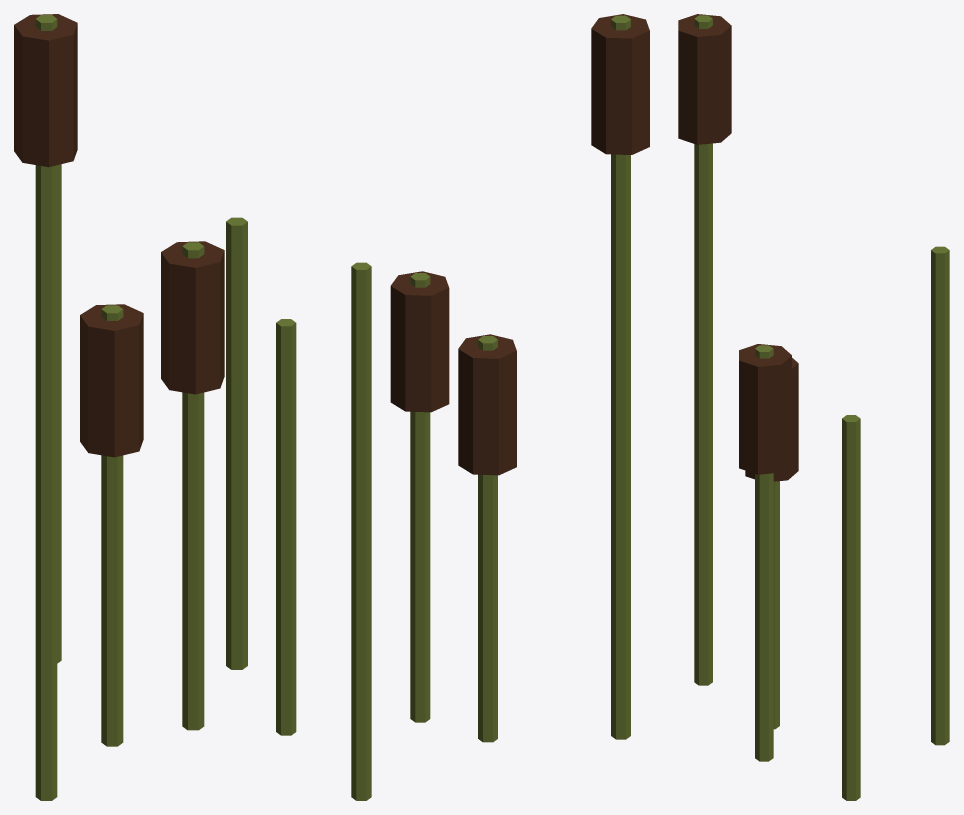
Rendered from reeds_b.glb.
The picture shows the model from 3 angles, left to right: view 1: azimuth 30°, elevation 25°; view 2: azimuth 150°, elevation 25°; view 3: azimuth 270°, elevation 25°; orthographic projection. The views are drawn at different scales.
Visible parts, largest first — view 1: Reed_3.001, Reed_4.001, Cattail_5.001, Cattail_1.001, Cattail_3.001, Reed_5.001, Reed_1.001, Reed_2.001; view 2: Reed_3.001, Reed_2.001, Reed_4.001, Cattail_5.001, Cattail_1.001, Cattail_3.001, Reed_5.001, Reed_1.001; view 3: Reed_3.001, Reed_2.001, Reed_4.001, Cattail_3.001, Cattail_5.001, Reed_5.001, Reed_1.001, Cattail_1.001.
Boxes of the visible parts, x1,y1,x2,y2 form: Reed_3.001: [35, 15, 57, 800]; Reed_4.001: [226, 217, 247, 669]; Cattail_5.001: [161, 241, 224, 394]; Cattail_1.001: [80, 304, 143, 457]; Cattail_3.001: [14, 14, 77, 167]; Reed_5.001: [182, 242, 204, 730]; Reed_1.001: [101, 305, 123, 746]; Reed_2.001: [57, 164, 61, 663]; Reed_3.001: [611, 15, 630, 739]; Reed_2.001: [351, 262, 371, 800]; Reed_4.001: [276, 319, 296, 735]; Cattail_5.001: [390, 271, 449, 412]; Cattail_1.001: [458, 334, 516, 475]; Cattail_3.001: [591, 14, 649, 154]; Reed_5.001: [410, 273, 430, 722]; Reed_1.001: [478, 336, 497, 742]; Reed_3.001: [694, 15, 712, 685]; Reed_2.001: [931, 246, 949, 745]; Reed_4.001: [842, 415, 860, 800]; Cattail_3.001: [678, 14, 731, 144]; Cattail_5.001: [739, 344, 791, 474]; Reed_5.001: [755, 345, 773, 761]; Reed_1.001: [773, 481, 779, 729]; Cattail_1.001: [745, 358, 798, 481].
Size of the model in its own units: 0.8277 by 1.97 by 0.7284.
